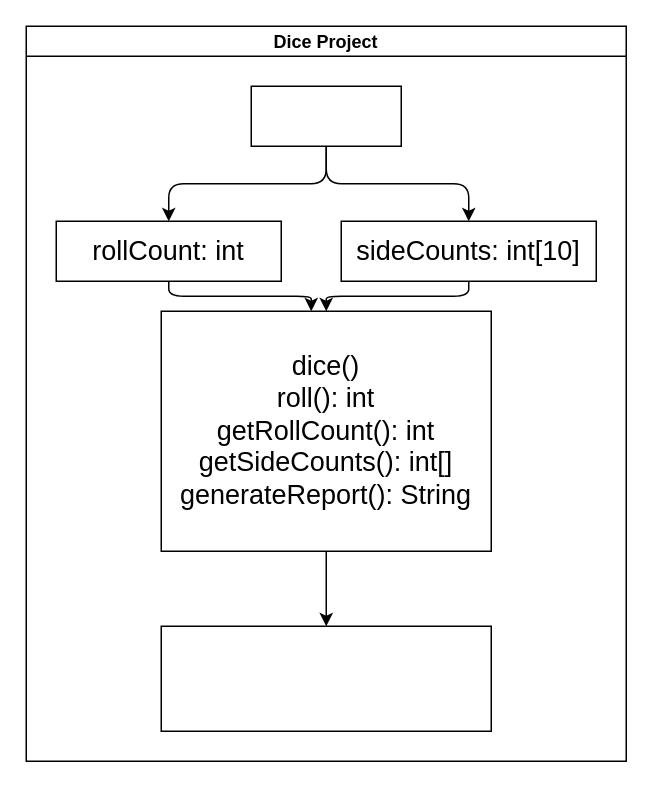
Image size: 653x788. Some labels were removed from this diagram. The centre of each missing label's shape, as x and y in pixels:
"Dice" belongs at point (325, 115).
"Main(String[] args): void" belongs at point (325, 678).
